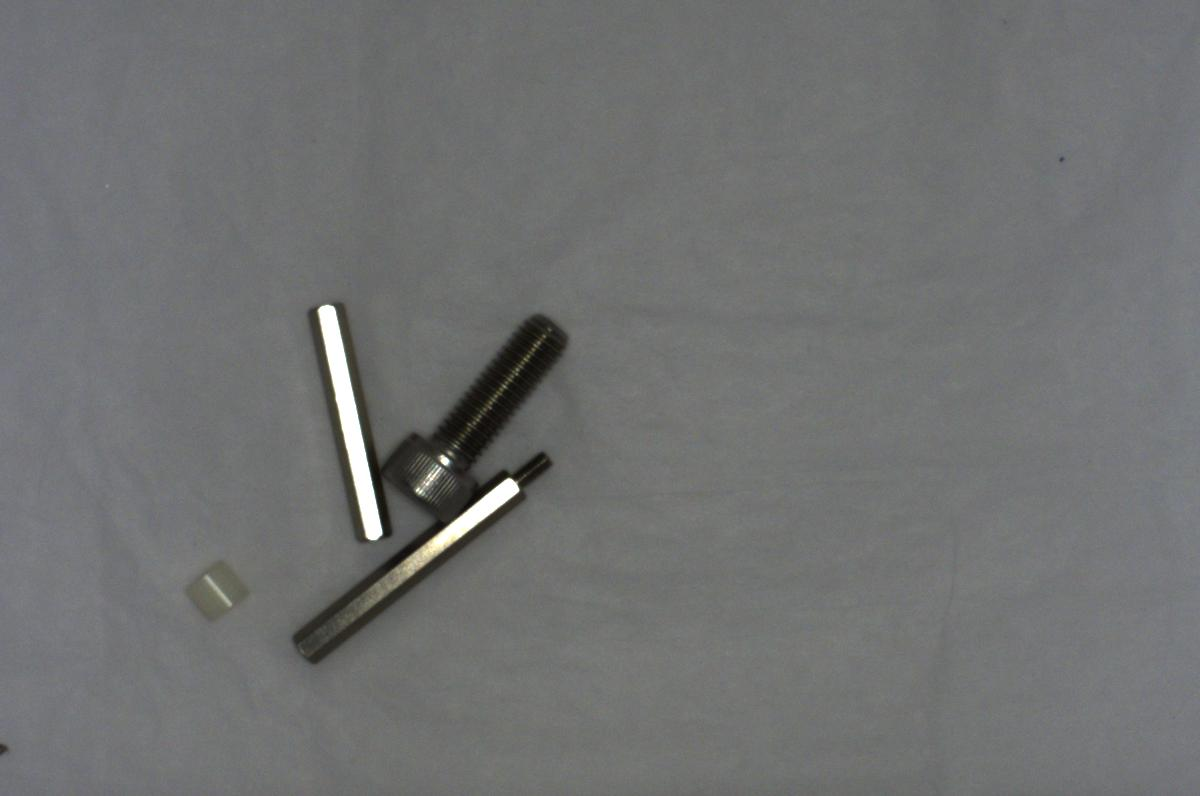Double hexagonal column: (304, 298, 393, 547)
Hexagon screw: (380, 307, 566, 520)
Hexagonal steel column: (290, 448, 553, 672)
Plastic cushion pillar: (182, 548, 252, 623)
